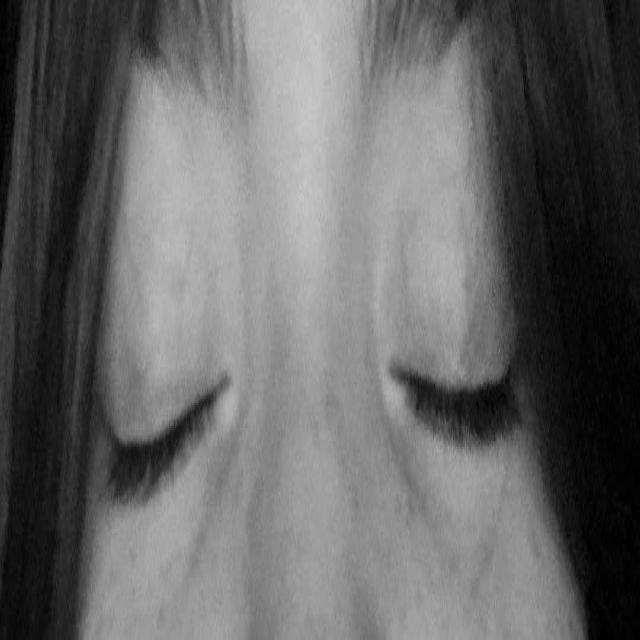real: (74, 113, 530, 601)
